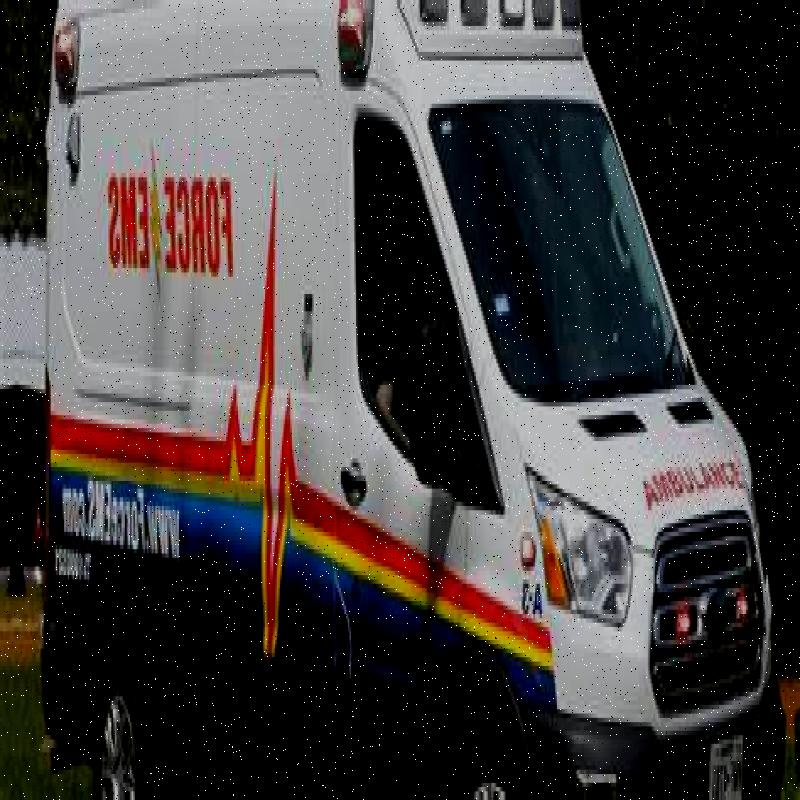AmbulanceSiren: (319, 0, 400, 95), (56, 21, 92, 133)
